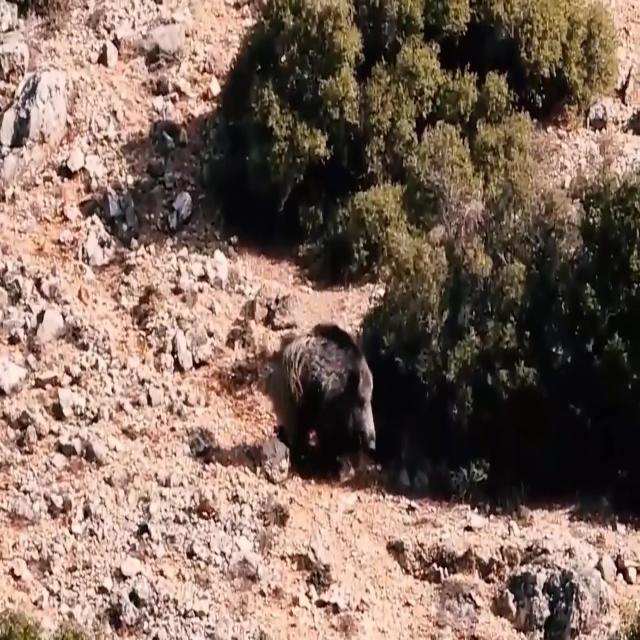pig: (272, 297, 412, 457)
